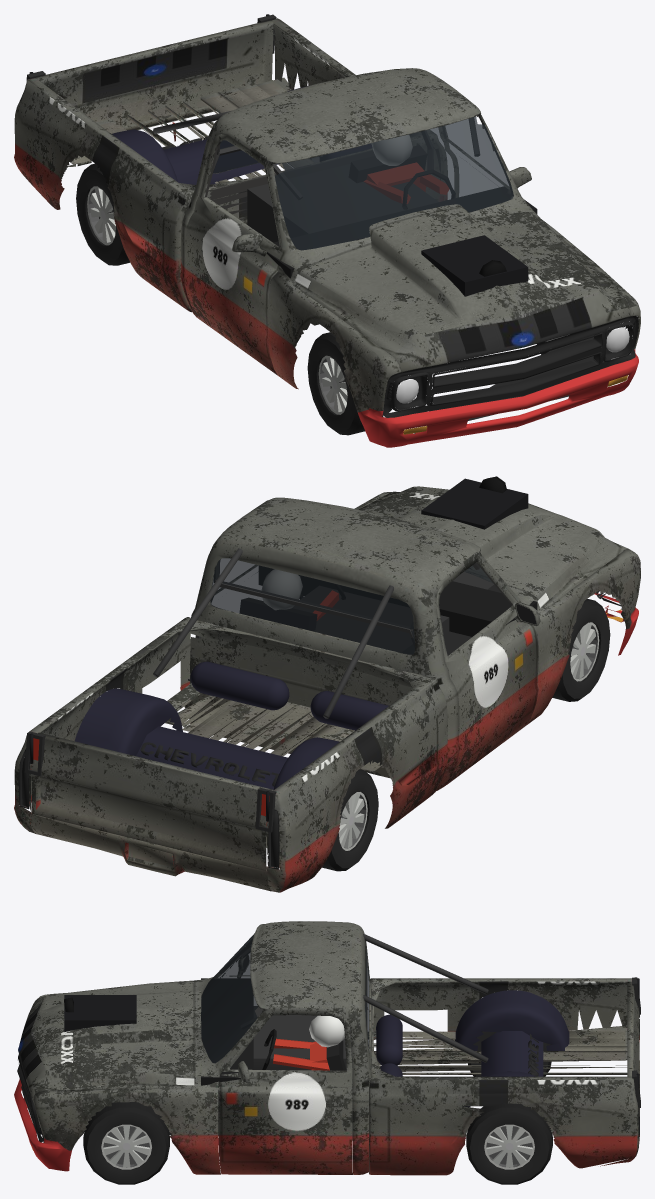
3 views of the same model, one above another, from view 1: azimuth 30°, elevation 25°; view 2: azimuth 150°, elevation 25°; view 3: azimuth 270°, elevation 25° (orthographic). The views are drawn at different scales.
Parts seen in each view (by area): view 1: body, wheel_fr, wheel_rr; view 2: body, wheel_fr, wheel_rr; view 3: body, wheel_fl, wheel_rl, wheel_rr.
Boxes of the visible parts, <box> form: body: <box>14,14,640,447</box>; wheel_fr: <box>307,332,385,435</box>; wheel_rr: <box>76,163,130,265</box>; body: <box>14,476,640,892</box>; wheel_fr: <box>552,599,610,701</box>; wheel_rr: <box>322,769,378,871</box>; body: <box>14,921,640,1175</box>; wheel_fl: <box>83,1102,169,1184</box>; wheel_rl: <box>466,1103,552,1184</box>; wheel_rr: <box>468,1031,551,1076</box>.
Size of the model in its own units: 2.17 by 1.52 by 4.78.
2 materials, 1 textured.
